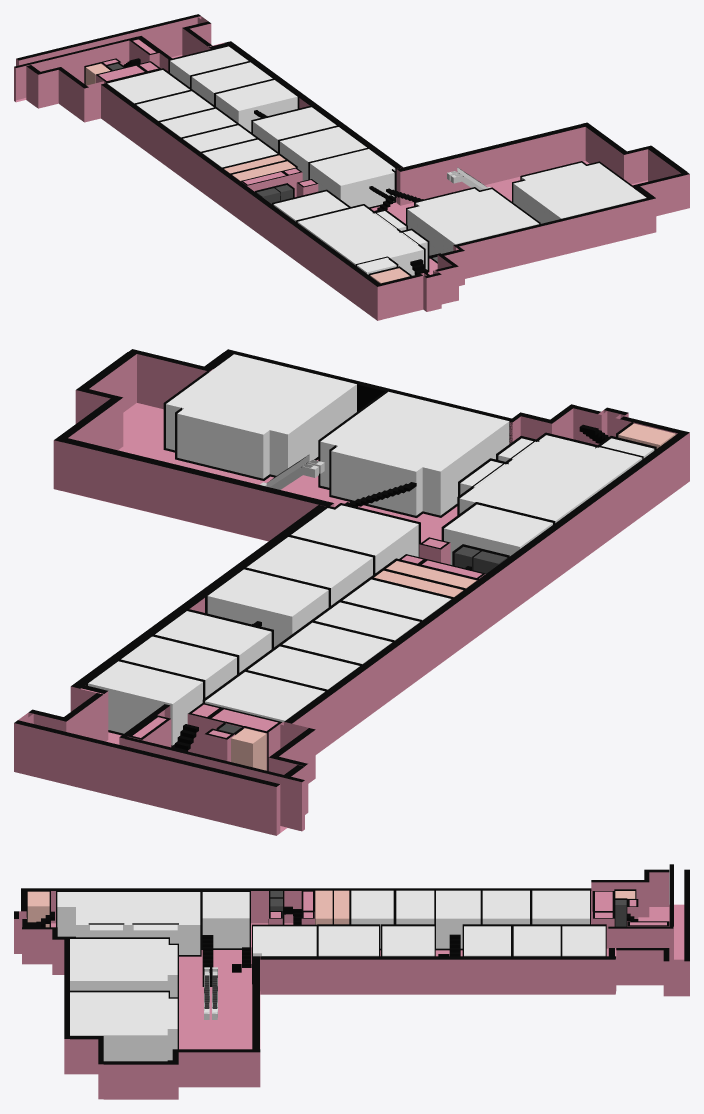
The picture shows the model from 3 angles, top to bottom: view 1: azimuth 30°, elevation 25°; view 2: azimuth 150°, elevation 25°; view 3: azimuth 270°, elevation 25°; orthographic projection. The views are drawn at different scales.
Parts seen in each view (by area): view 1: object, room_10_2_2, room_10_2_1, object_line.012, room_10_2_3, room_10_2_15, room_10_2_12, room_10_2_14, room_10_2_13, room_10_2_11, room_10_2_9, room_10_2_10 (+6 smaller); view 2: object, room_10_2_1, room_10_2_2, object_line.012, room_10_2_13, room_10_2_10, room_10_2_15, room_10_2_14, room_10_2_4, room_10_2_9, room_10_2_12, room_10_2_11 (+13 smaller); view 3: object, room_10_2_1, room_10_2_2, object_line.012, room_10_2_3, room_10_2_4, room_10_2_7, room_10_2_9, room_10_2_15, room_10_2_14, room_10_2_8, room_10_2_13 (+12 smaller).
Boxes of the visible parts, x1,y1,x2,y2 form: object: (14,14,689,320); room_10_2_2: (407,188,538,261); room_10_2_1: (513,162,646,223); object_line.012: (296,204,429,273); room_10_2_3: (298,205,427,275); room_10_2_15: (310,149,395,207); room_10_2_12: (216,80,297,131); room_10_2_14: (280,127,366,180); room_10_2_13: (253,107,336,151); room_10_2_11: (191,62,272,104); room_10_2_9: (107,70,189,103); room_10_2_10: (170,46,248,87); object: (14,349,689,835); room_10_2_1: (166,354,356,478); room_10_2_2: (320,391,509,515); object_line.012: (457,432,656,522); room_10_2_13: (207,569,328,647); room_10_2_10: (88,661,202,745); room_10_2_15: (291,505,418,572); room_10_2_14: (246,537,372,605); room_10_2_4: (444,504,552,564); room_10_2_9: (205,672,324,722); room_10_2_12: (155,611,271,672); room_10_2_11: (121,636,236,697); object: (14,864,689,1099); room_10_2_1: (70,992,177,1061); room_10_2_2: (70,939,177,997); object_line.012: (56,890,201,956); room_10_2_3: (57,892,200,954); room_10_2_4: (202,892,249,948); room_10_2_7: (436,890,480,948); room_10_2_9: (532,890,589,924); room_10_2_15: (253,926,316,956); room_10_2_14: (318,926,378,956); room_10_2_8: (482,890,529,924); room_10_2_13: (382,926,434,956).
Size of the model in its own units: 1.82 by 0.1806 by 2.6.
